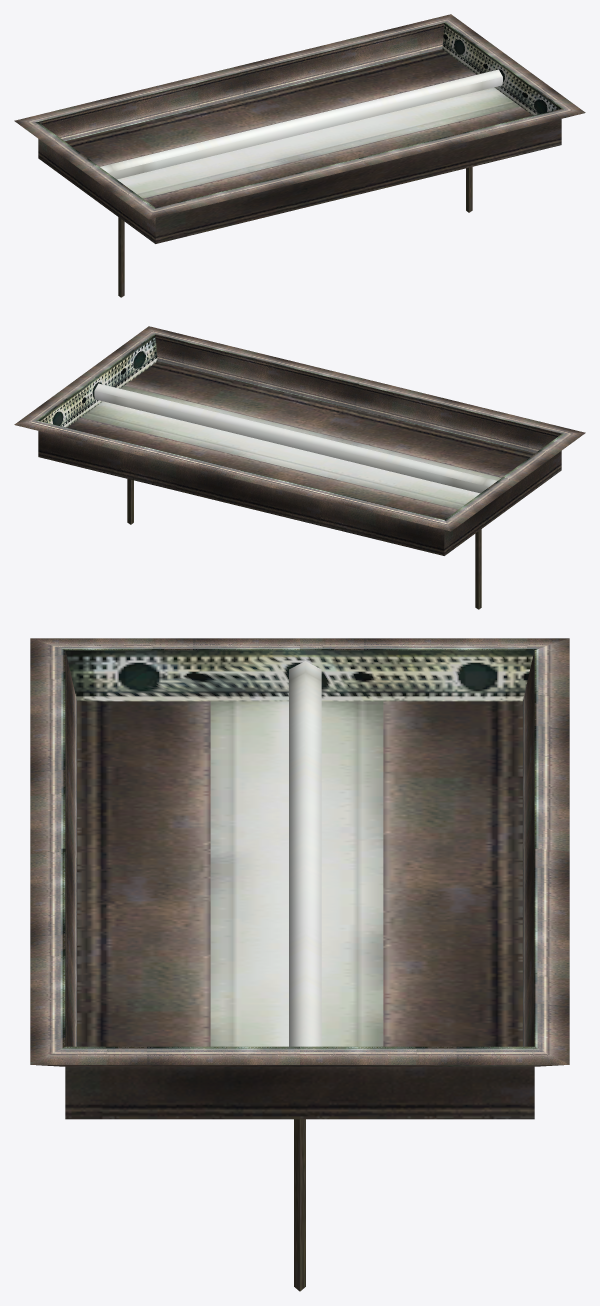
The model's file is hang_slum3.fbx.
3 views of the same model, one above another, from view 1: azimuth 30°, elevation 25°; view 2: azimuth 150°, elevation 25°; view 3: azimuth 270°, elevation 25° (orthographic). The views are drawn at different scales.
Visible parts, largest first — view 1: mesh_0; view 2: mesh_0; view 3: mesh_0.
Part boxes in pixels (x1,y1,x2,y2): mesh_0: (14,14,585,297); mesh_0: (14,326,585,609); mesh_0: (30,638,569,1291).
Bounding box in the file's own units: 172 × 51.7 × 92.
Materials: 1 (1 with a texture image).
